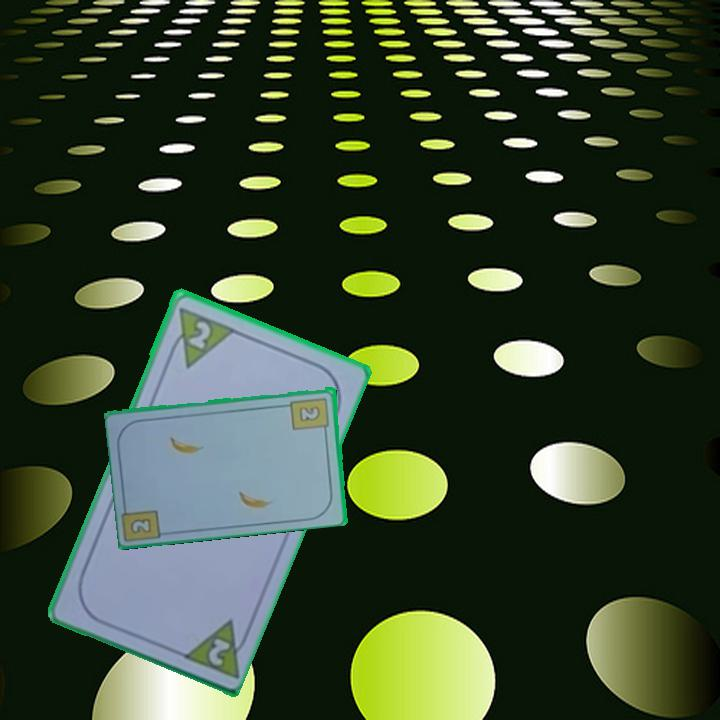2b: (288, 394, 332, 436), (127, 514, 155, 537)
2p: (163, 303, 238, 370), (204, 633, 234, 669)
